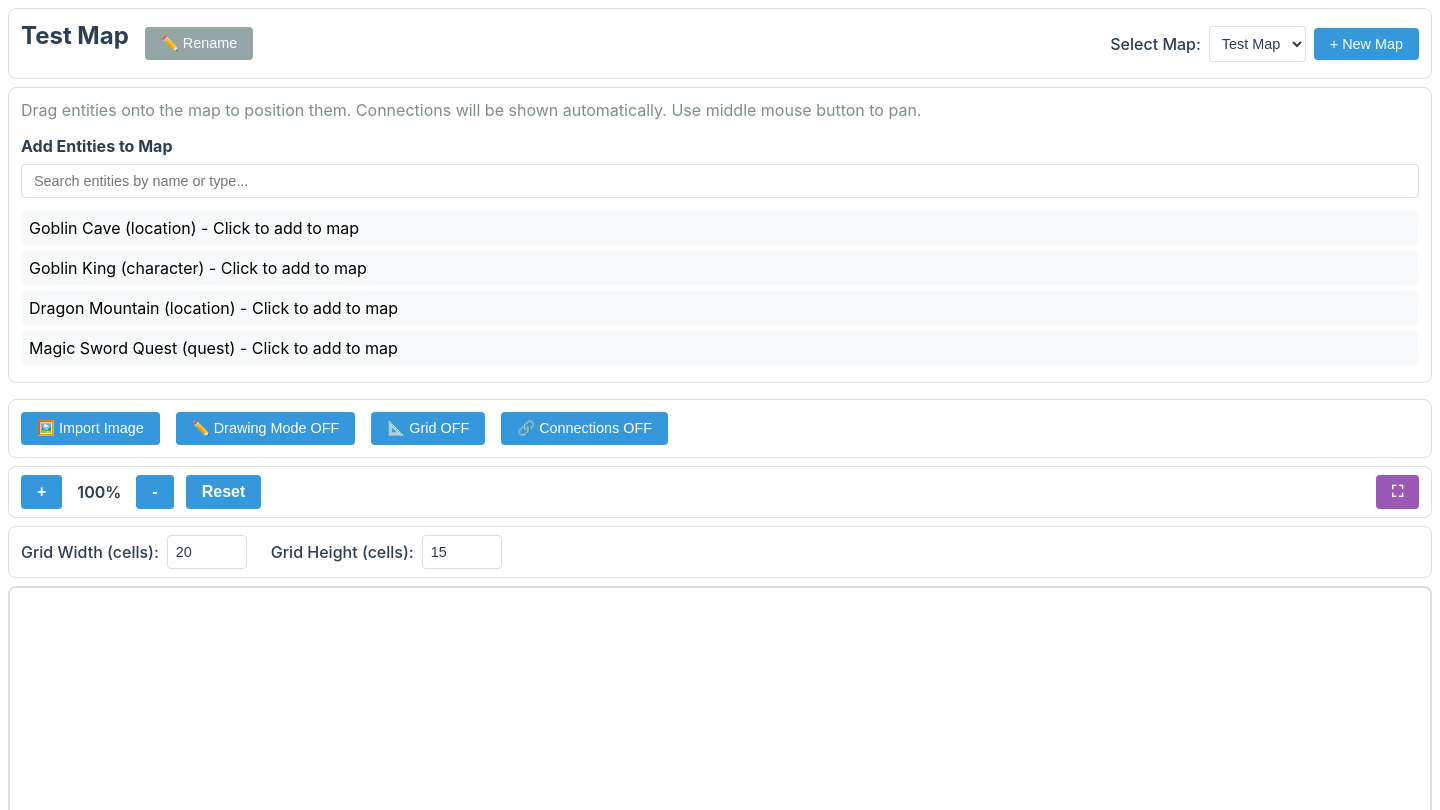
it: MapEditor Entity Filter › Entity Filter Input › filters entities by name
This screenshot has width=1440, height=810.
Type "Goblin" into the field with placeholder "Search entities by name or type..." at x=720, y=181, box [21,164,1419,198]
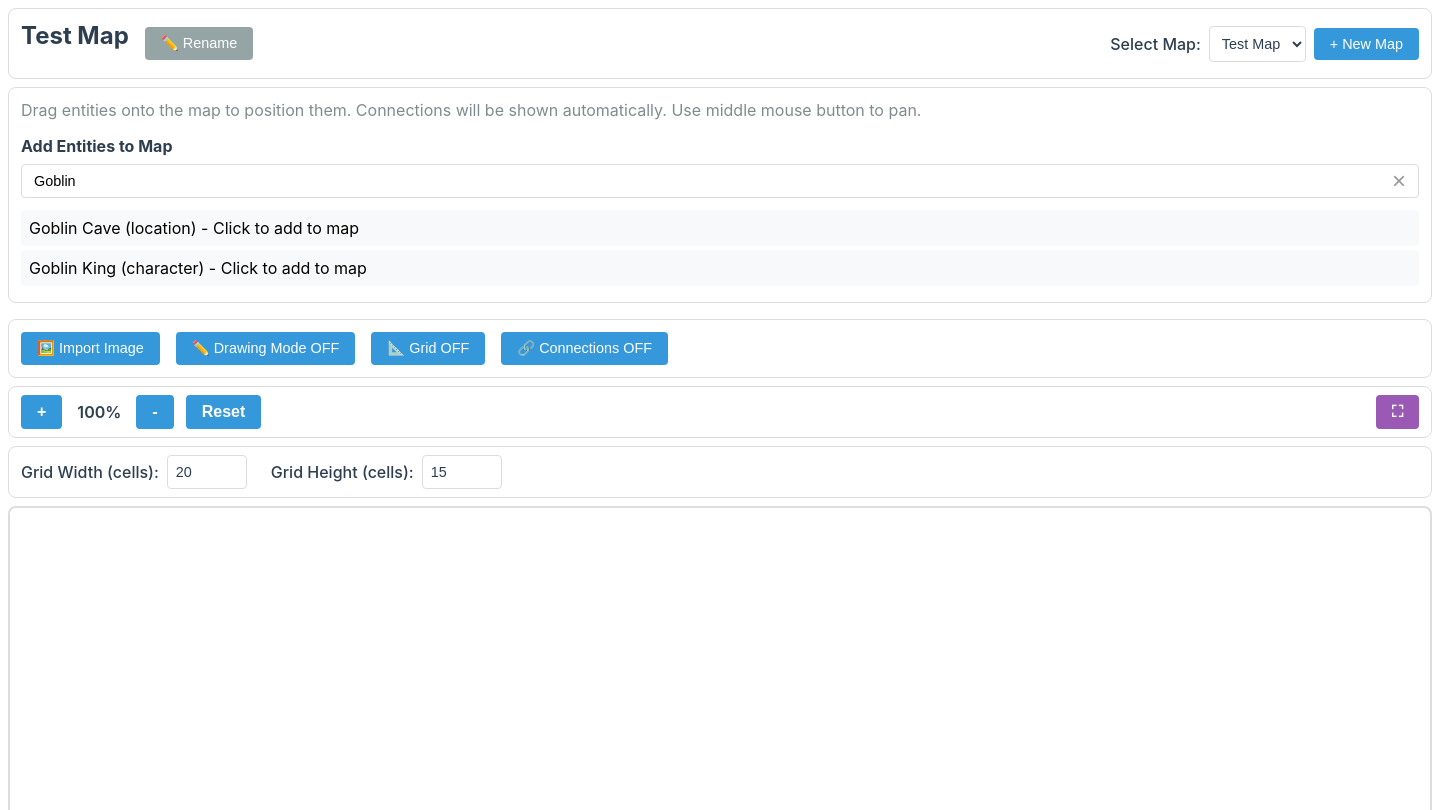
Expected: the list item "Goblin Cave (location) - Click to add to map" is shown, [21,210,1419,246]
Expected: the list item "Dragon Mountain" is gone
Expected: the list item "Magic Sword Quest" is gone
